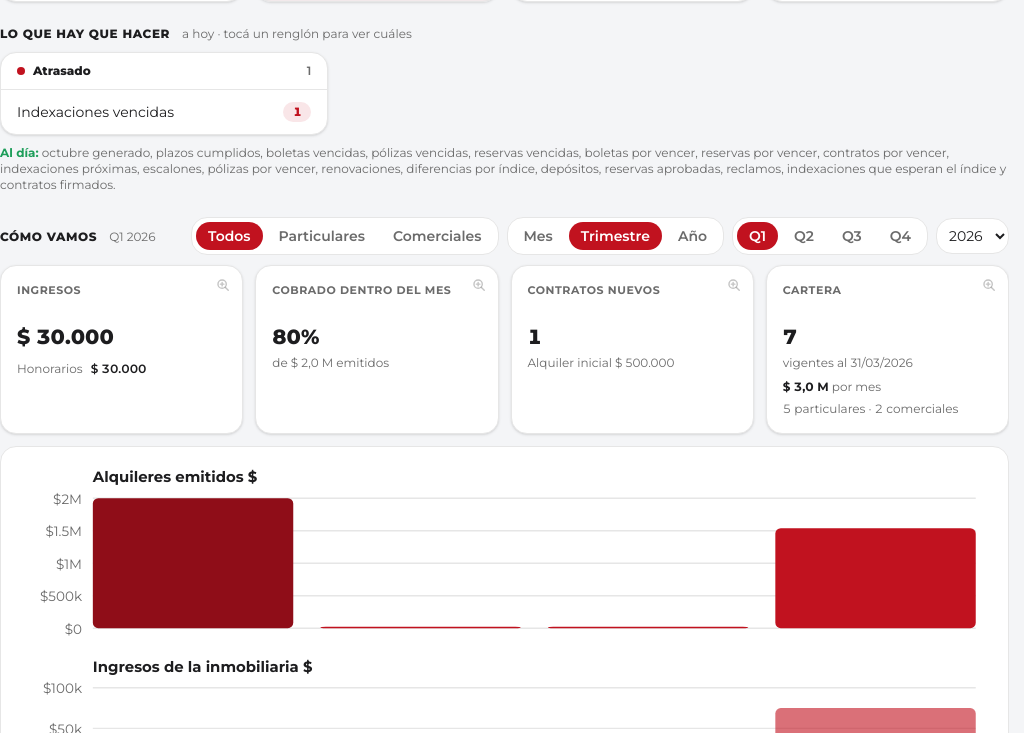
TableroAlquileres en tres bloques (17/10/2026) › Cómo vamos › regla 77: un período que ya cerró muestra la cartera a su cierre, lo dice, y su lista se pide
(page scrolled)
Click the button with aria-label "Cartera: 7" at x=887, y=349, box [767, 266, 1008, 433]
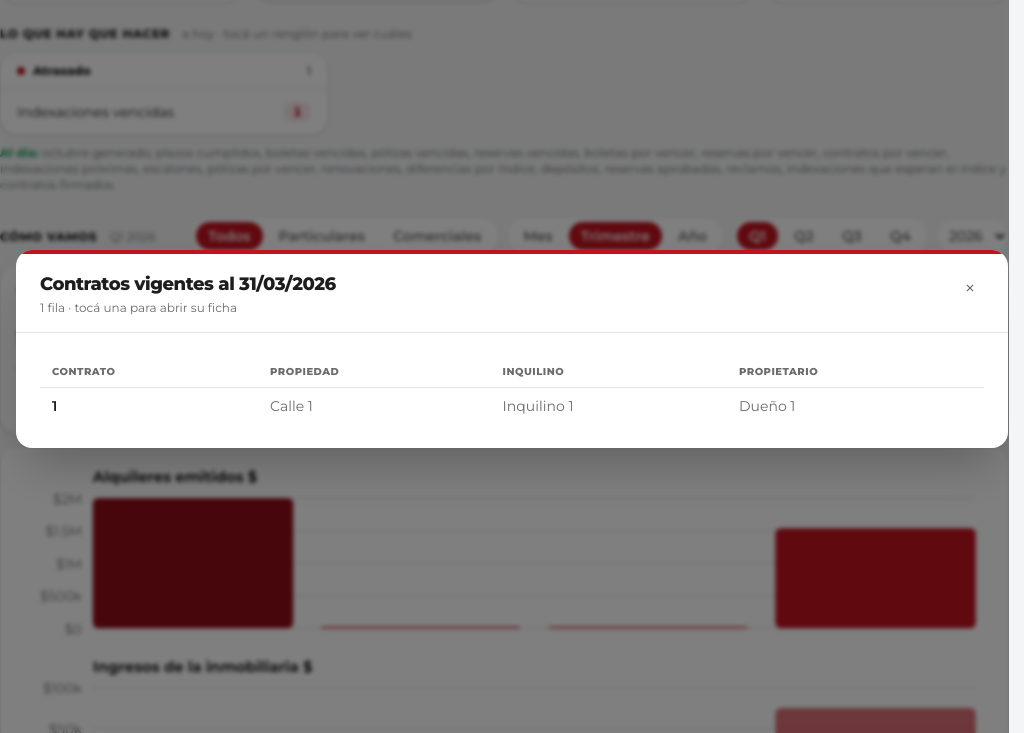
Check: the table is shown, box [40, 357, 984, 424]
